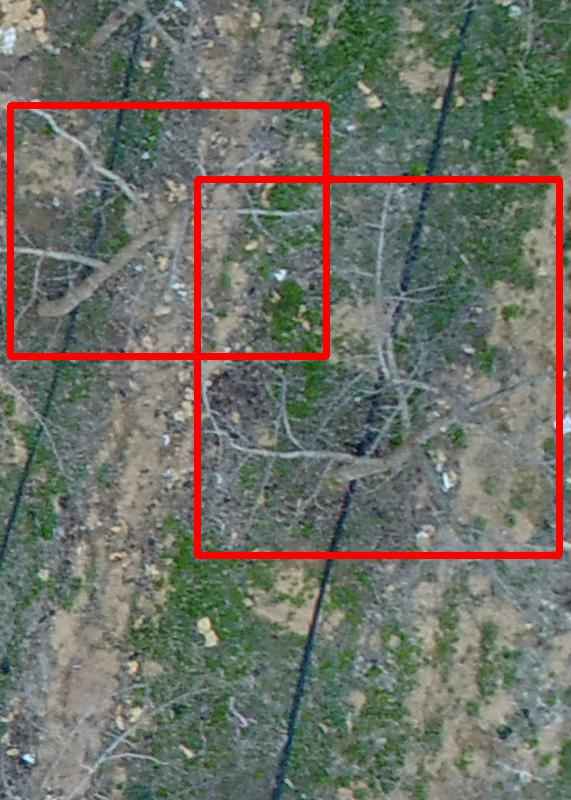apple: (197, 179, 559, 555), (10, 105, 326, 356)
